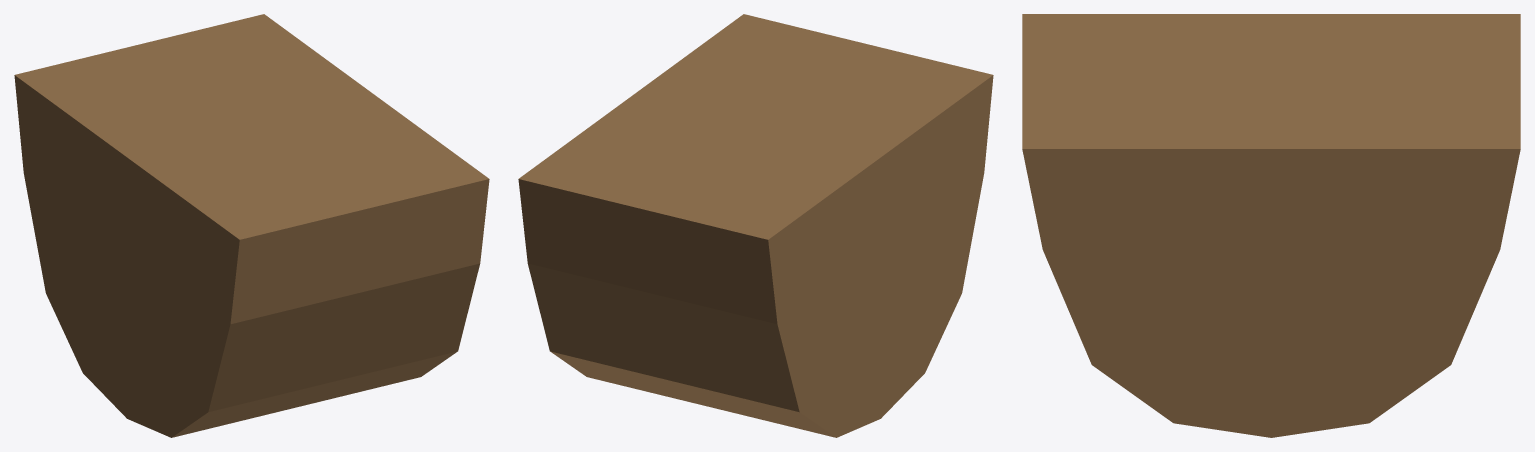
The model's file is platform_bottommiddle.glb.
3 renders of one model, left to right at view 1: azimuth 30°, elevation 25°; view 2: azimuth 150°, elevation 25°; view 3: azimuth 270°, elevation 25°, orthographic. The views are drawn at different scales.
Parts seen in each view (by area): view 1: Platform_BottomMiddle; view 2: Platform_BottomMiddle; view 3: Platform_BottomMiddle.
Part boxes in pixels (<box>): Platform_BottomMiddle: <box>14,14,489,437</box>; Platform_BottomMiddle: <box>518,14,993,437</box>; Platform_BottomMiddle: <box>1022,14,1520,437</box>.
Size of the model in its own units: 2 by 2 by 3.13.
